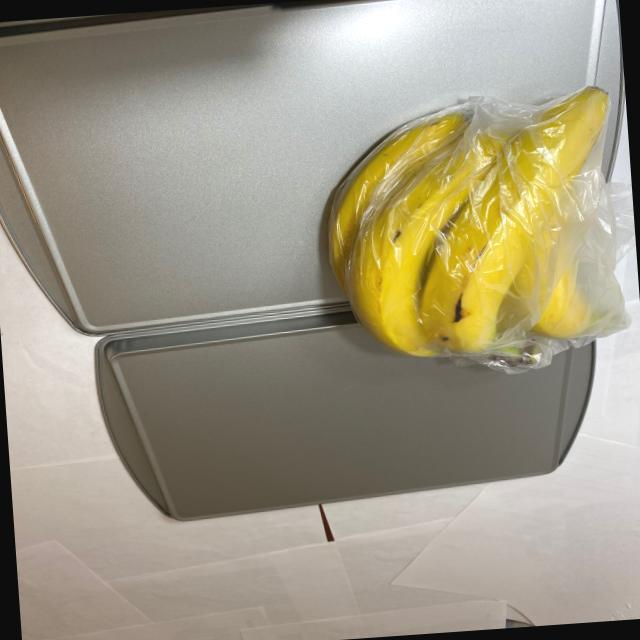banana: (306, 81, 630, 392)
